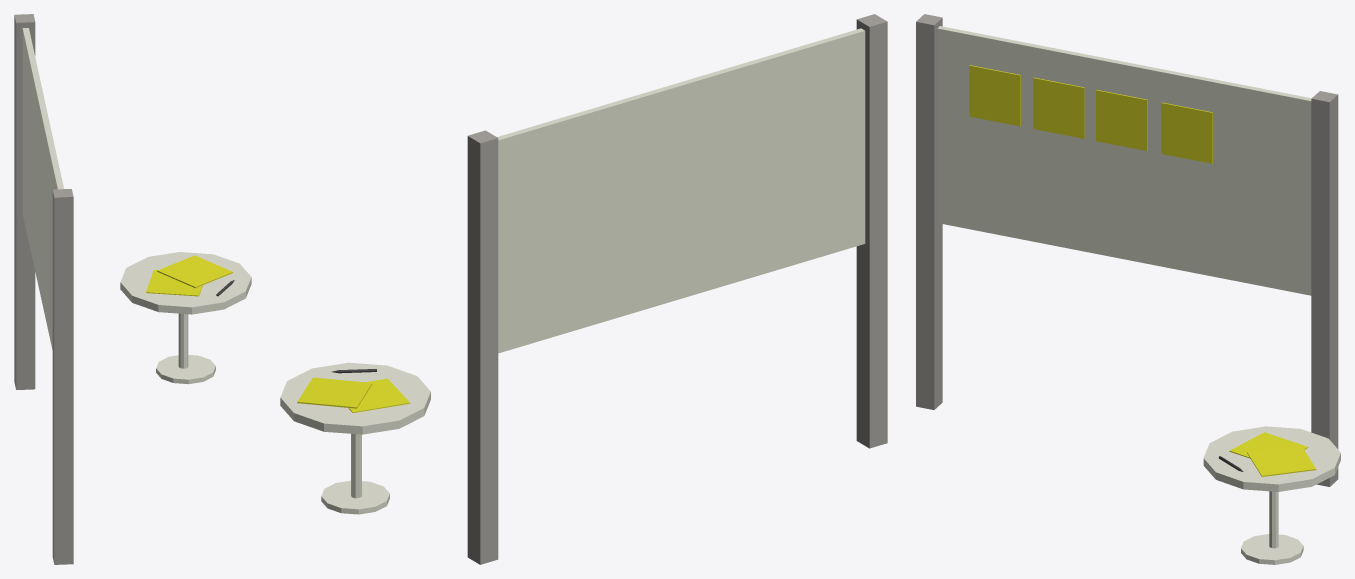
File: desk.glb
The picture shows the model from 3 angles, left to right: view 1: azimuth 30°, elevation 25°; view 2: azimuth 150°, elevation 25°; view 3: azimuth 270°, elevation 25°; orthographic projection. The views are drawn at different scales.
Visible parts, largest first — view 1: Plane.008; view 2: Plane.008; view 3: Plane.008.
Boxes of the visible parts, bbox=[...] form: Plane.008: bbox=[14, 14, 251, 564]; Plane.008: bbox=[280, 14, 887, 564]; Plane.008: bbox=[916, 14, 1340, 564].
Size of the model in its own units: 1.65 by 1.63 by 1.63.
